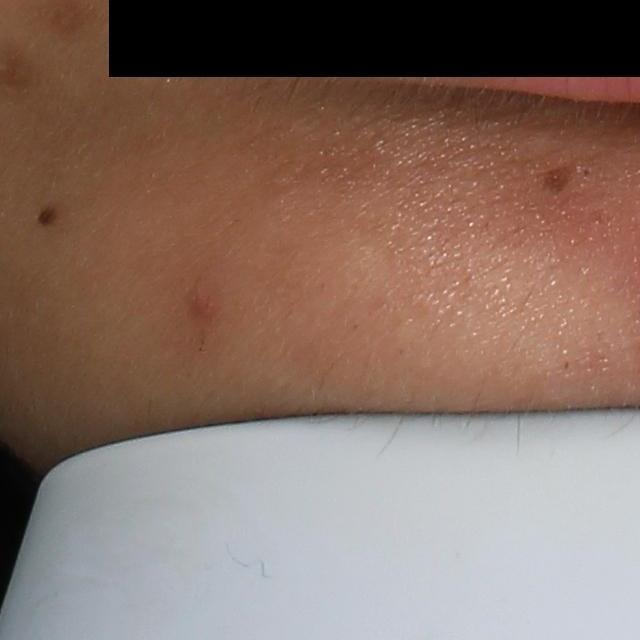comedo: (578, 164, 593, 181)
nevus: (36, 205, 58, 225)
papule: (188, 287, 215, 322)
